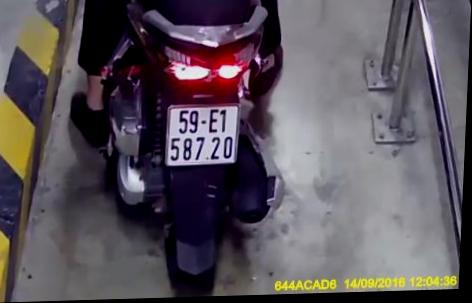License_Plate: (152, 99, 249, 173)
